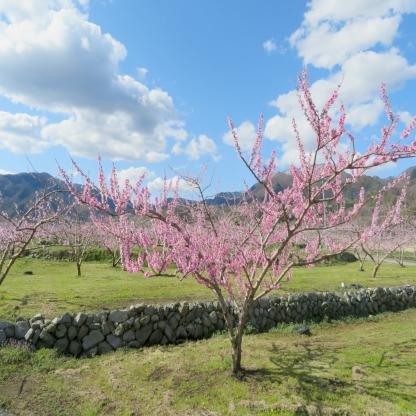Momo: (54, 60, 416, 282), (0, 195, 109, 250), (239, 202, 354, 244), (142, 198, 244, 245), (349, 212, 416, 258), (99, 190, 145, 249)
